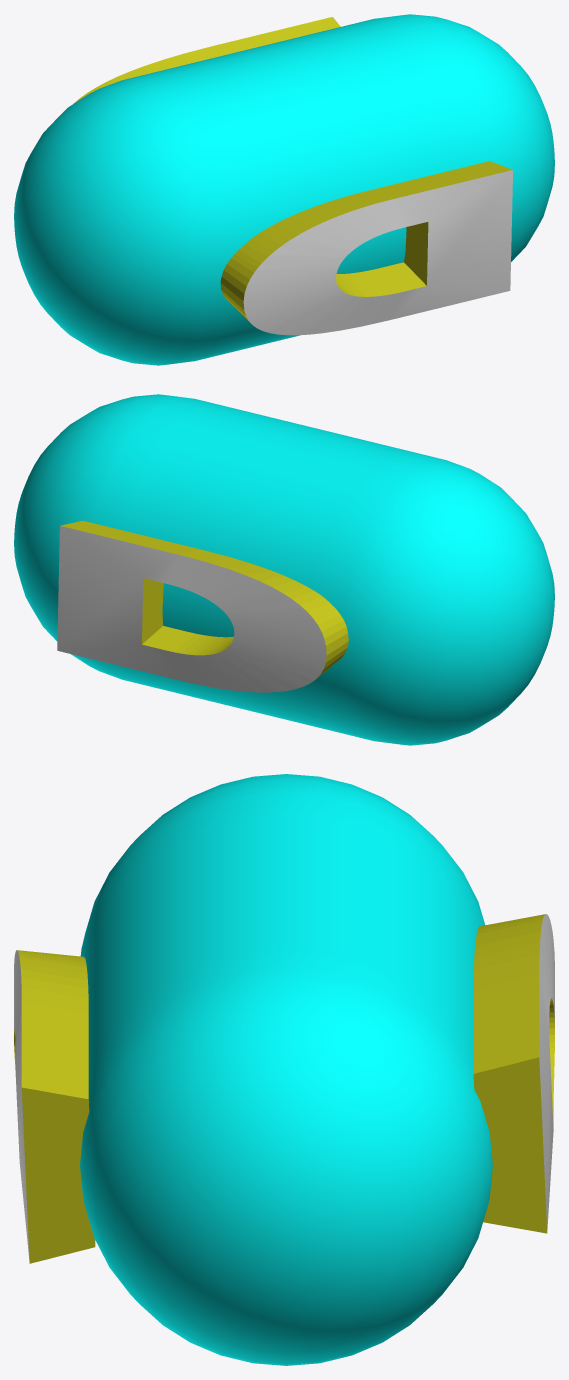
The model's file is BonusD.fbx.
3 views of the same model, one above another, from view 1: azimuth 30°, elevation 25°; view 2: azimuth 150°, elevation 25°; view 3: azimuth 270°, elevation 25° (orthographic). The views are drawn at different scales.
Parts seen in each view (by area): view 1: Объект_Капсула, Шапка_1, Выдавливание, Выдавливание_2; view 2: Объект_Капсула, Шапка_1_2, Выдавливание_2; view 3: Объект_Капсула, Выдавливание_2, Выдавливание, Шапка_1_2, Шапка_1.
Part boxes in pixels (bbox=[...]): Объект_Капсула: bbox=[14, 14, 554, 365]; Шапка_1: bbox=[243, 170, 512, 335]; Выдавливание: bbox=[220, 161, 512, 321]; Выдавливание_2: bbox=[73, 17, 340, 103]; Объект_Капсула: bbox=[14, 394, 554, 745]; Шапка_1_2: bbox=[57, 526, 326, 692]; Выдавливание_2: bbox=[60, 520, 348, 678]; Объект_Капсула: bbox=[80, 774, 492, 1365]; Выдавливание_2: bbox=[473, 914, 554, 1233]; Выдавливание: bbox=[14, 950, 95, 1263]; Шапка_1_2: bbox=[539, 914, 554, 1231]; Шапка_1: bbox=[14, 950, 29, 1261].
Size of the model in its own units: 1220 by 610 by 793.
